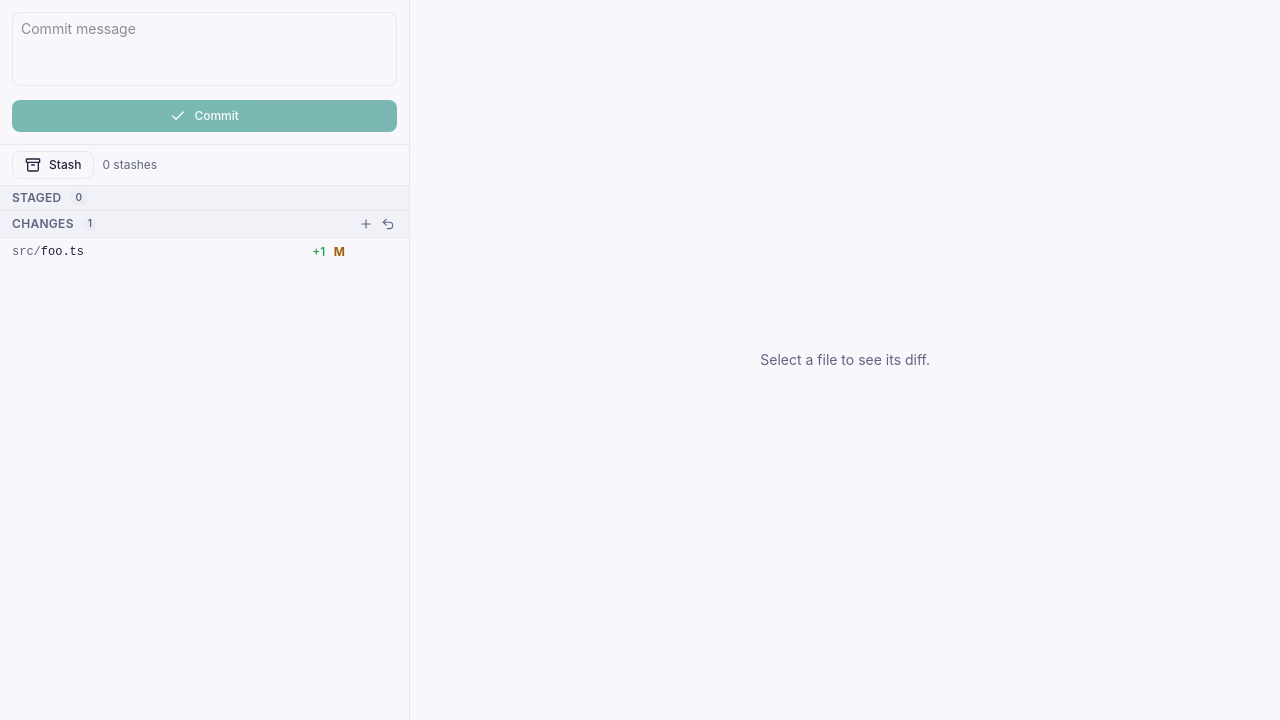
Scenario: WorkingTree in-view diff controls (#284) › shows the in-view layout + word-wrap controls once a file is open (A2)
Click the button titled "src/foo.ts": (62, 252) left=12, top=244, right=345, bottom=259
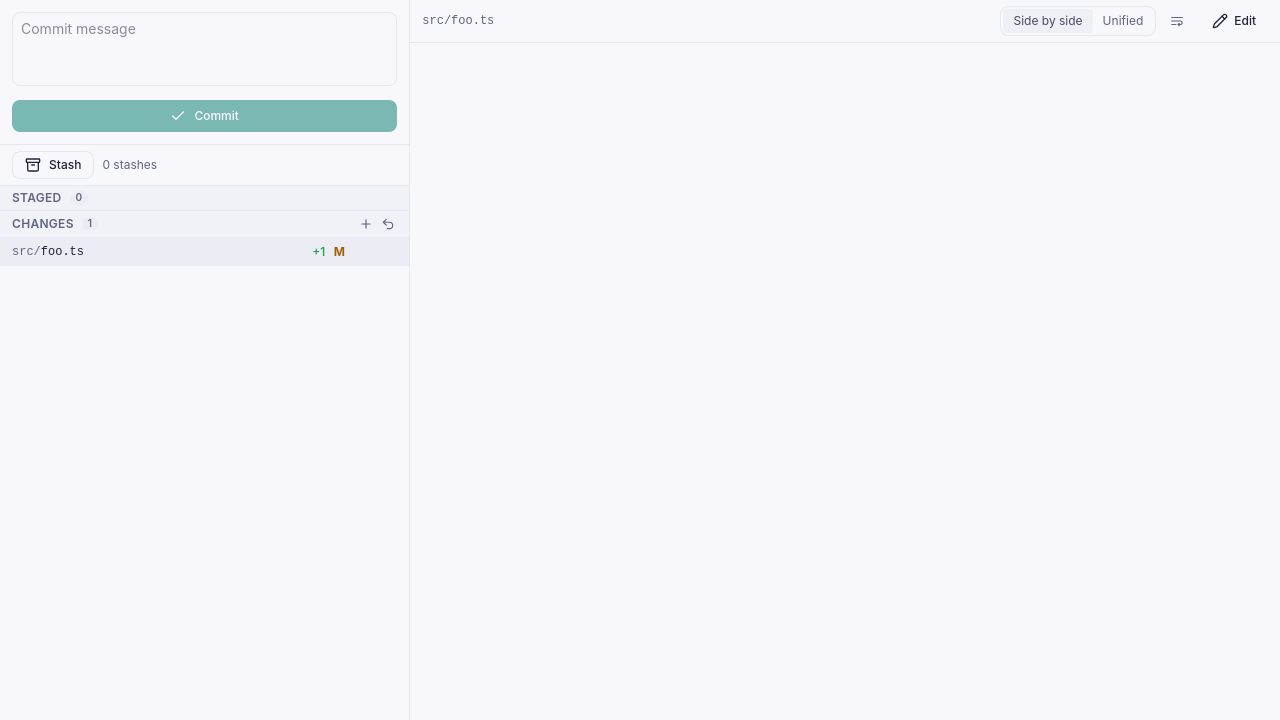
Result: the button "Side by side" is shown at left=1004, top=9, right=1093, bottom=33
Result: the button "Unified" is shown at left=1093, top=9, right=1153, bottom=33
Result: the button named "Word wrap" is shown at left=1162, top=7, right=1192, bottom=35
